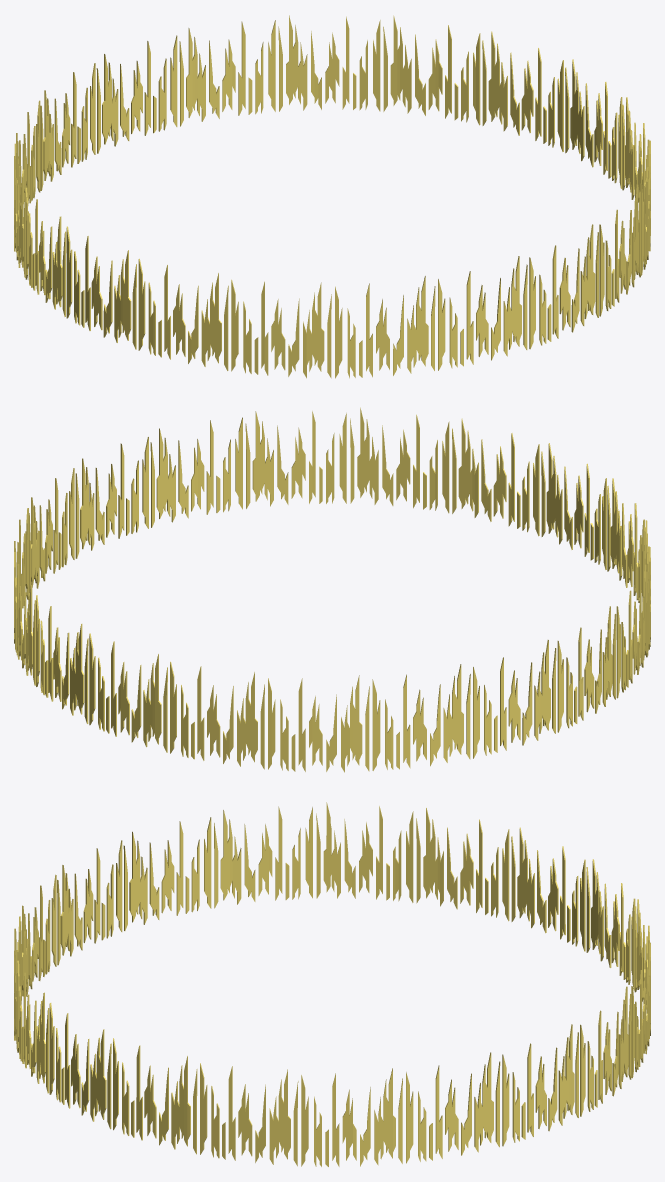
File: gold_fence.fbx
3 views of the same model, one above another, from view 1: azimuth 30°, elevation 25°; view 2: azimuth 150°, elevation 25°; view 3: azimuth 270°, elevation 25° (orthographic).
Parts seen in each view (by area): view 1: Plane.011; view 2: Plane.011; view 3: Plane.011.
Part boxes in pixels (<box>): Plane.011: <box>14,15,650,378</box>; Plane.011: <box>14,407,650,772</box>; Plane.011: <box>14,802,650,1166</box>.
Size of the model in its own units: 2920 by 2920 by 490.
